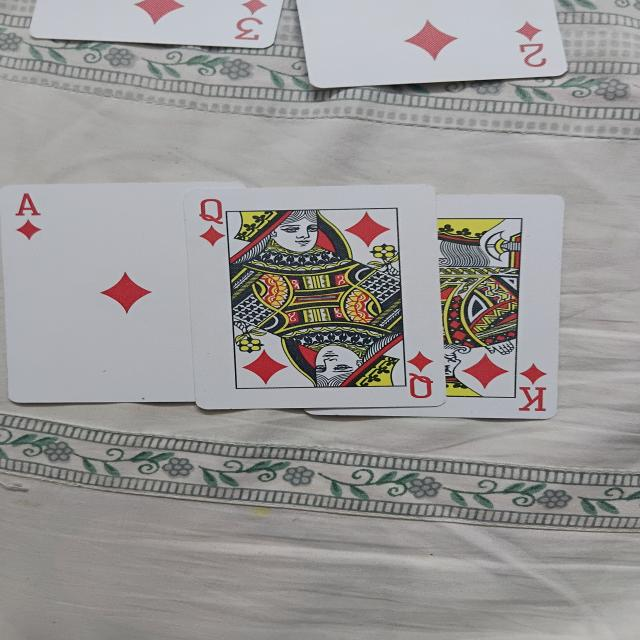AD: (11, 185, 198, 400)
KD: (440, 193, 560, 419)
QD: (192, 187, 444, 403)
